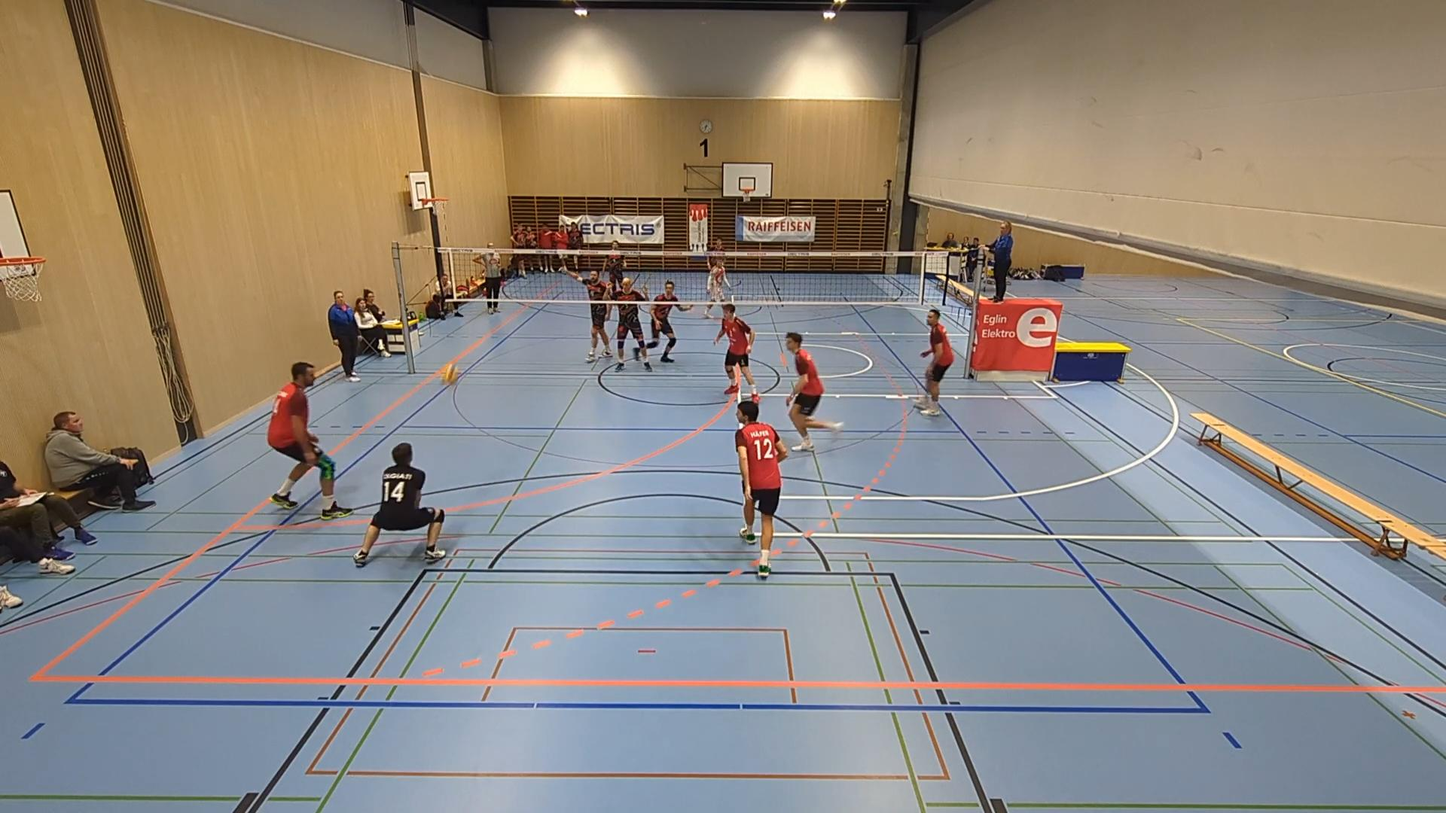ricezione: (353, 441, 446, 566)
